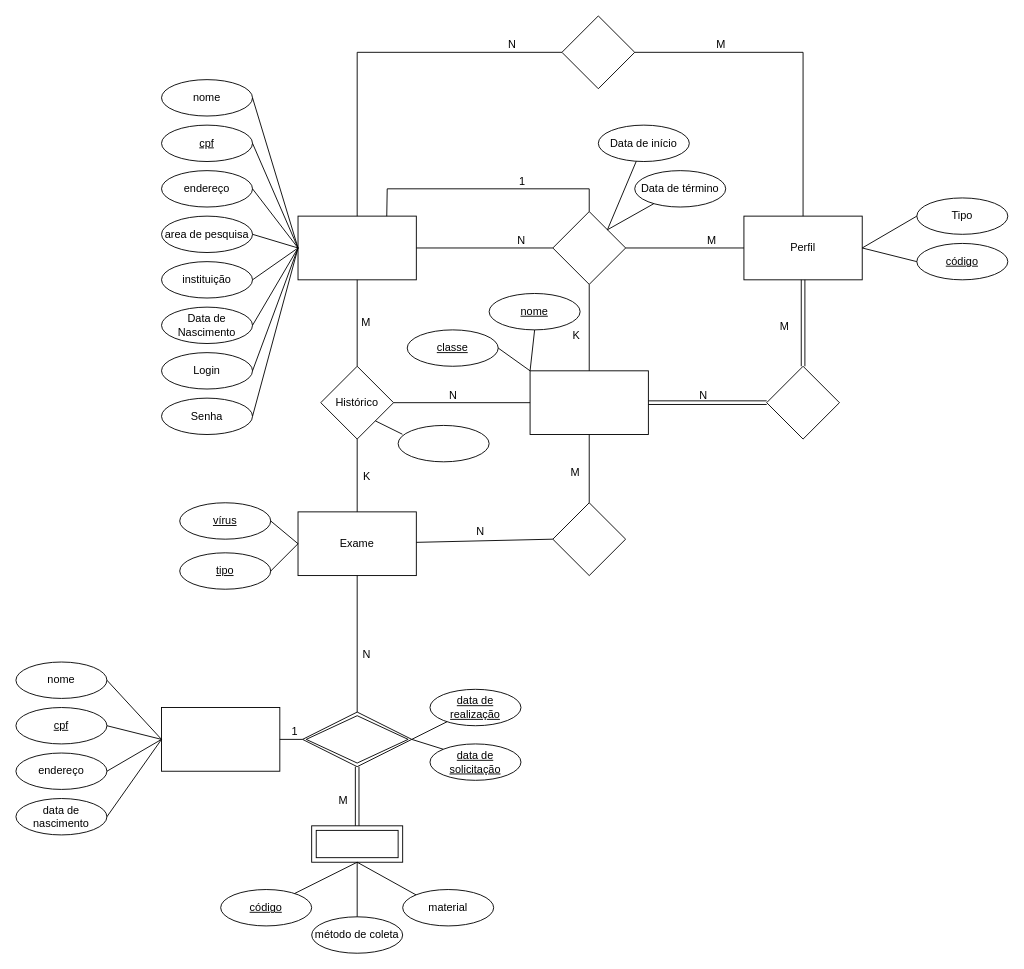
This 1024x969 diagram has some shape labels left out. Here are the shapes that lost their labels. From the top down, the centre of each, then its label:
pixel 598 52: Possui
pixel 356 247: Usuário
pixel 589 247: Tutelamento
pixel 588 402: Serviço
pixel 802 402: Pertence
pixel 443 443: data de utilização
pixel 589 539: Gerencia
pixel 220 739: Paciente
pixel 357 739: Realiza
pixel 357 843: Amostra
